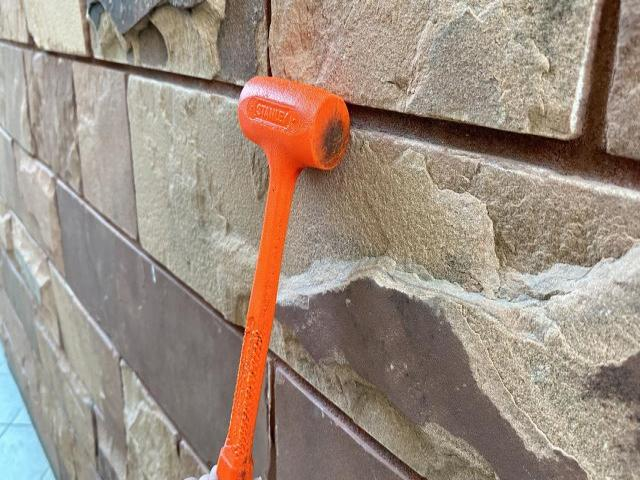hammer: (215, 75, 352, 480)
